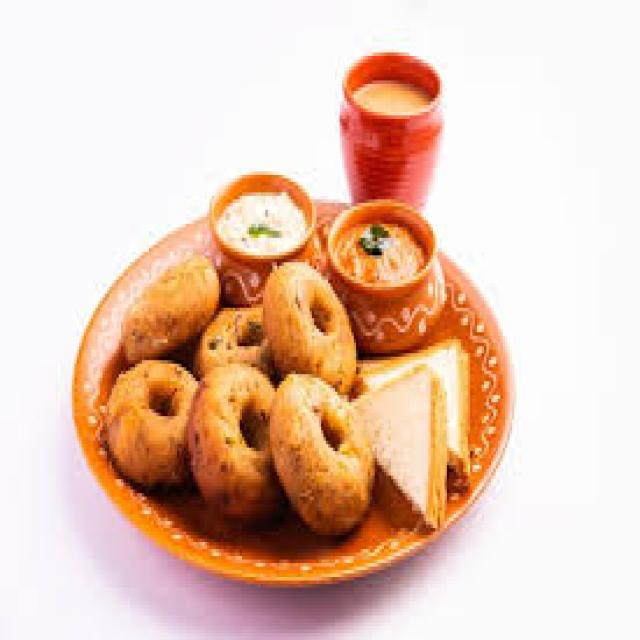MEDU VADA: (271, 378, 375, 533), (188, 366, 280, 532), (105, 360, 196, 493), (267, 264, 355, 396), (122, 260, 220, 361), (198, 311, 277, 373)
